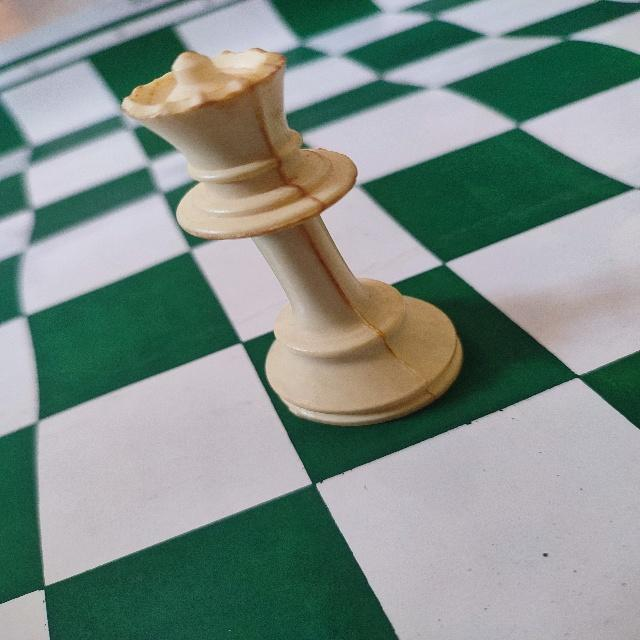Queen: (114, 42, 468, 430)
